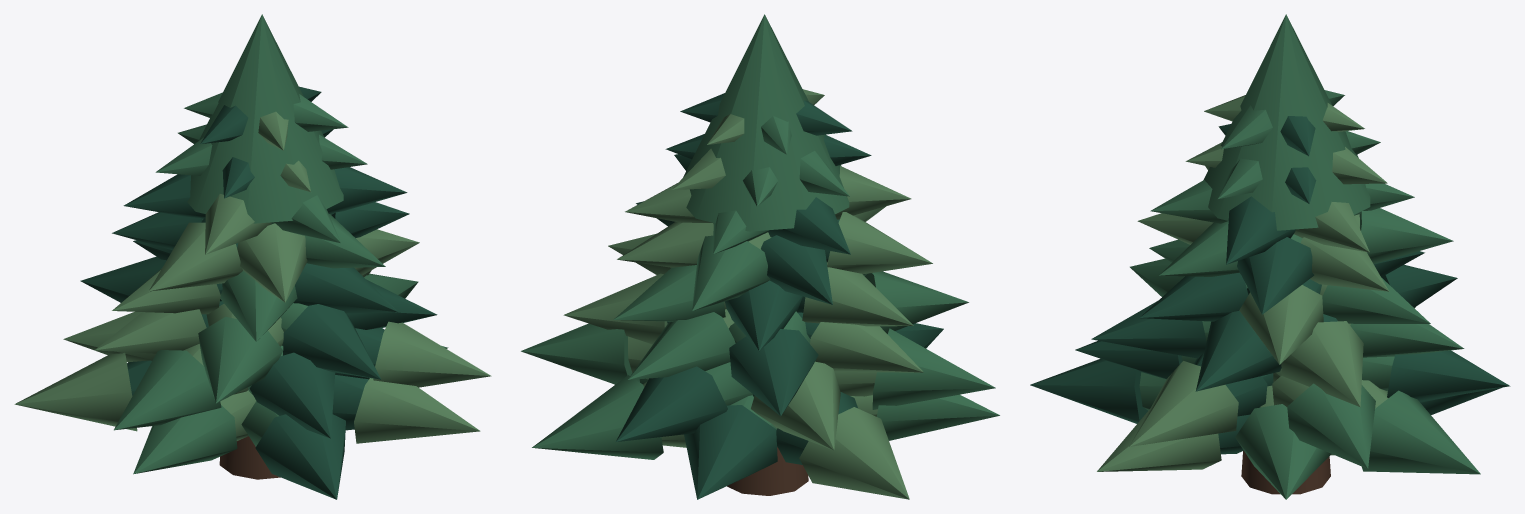
File: storybook-pine-layered.glb
3 renders of one model, left to right at view 1: azimuth 30°, elevation 25°; view 2: azimuth 150°, elevation 25°; view 3: azimuth 270°, elevation 25°, orthographic. The views are drawn at different scales.
Visible parts, largest first — view 1: Layered needle spray (×39), Pine crown, Tapered pine trunk; view 2: Layered needle spray (×38), Pine crown, Tapered pine trunk; view 3: Layered needle spray (×38), Pine crown, Tapered pine trunk.
Part boxes in pixels (x1=…): Layered needle spray (×39): x1=14, y1=94, x2=491, y2=499; Pine crown: x1=187, y1=14, x2=343, y2=223; Tapered pine trunk: x1=219, y1=436, x2=280, y2=479; Layered needle spray (×38): x1=521, y1=93, x2=999, y2=499; Pine crown: x1=683, y1=14, x2=849, y2=231; Tapered pine trunk: x1=727, y1=447, x2=808, y2=495; Layered needle spray (×38): x1=1030, y1=103, x2=1510, y2=499; Pine crown: x1=1203, y1=14, x2=1370, y2=230; Tapered pine trunk: x1=1241, y1=450, x2=1330, y2=494.
Size of the model in its own units: 0.9133 by 1 by 0.9429.
